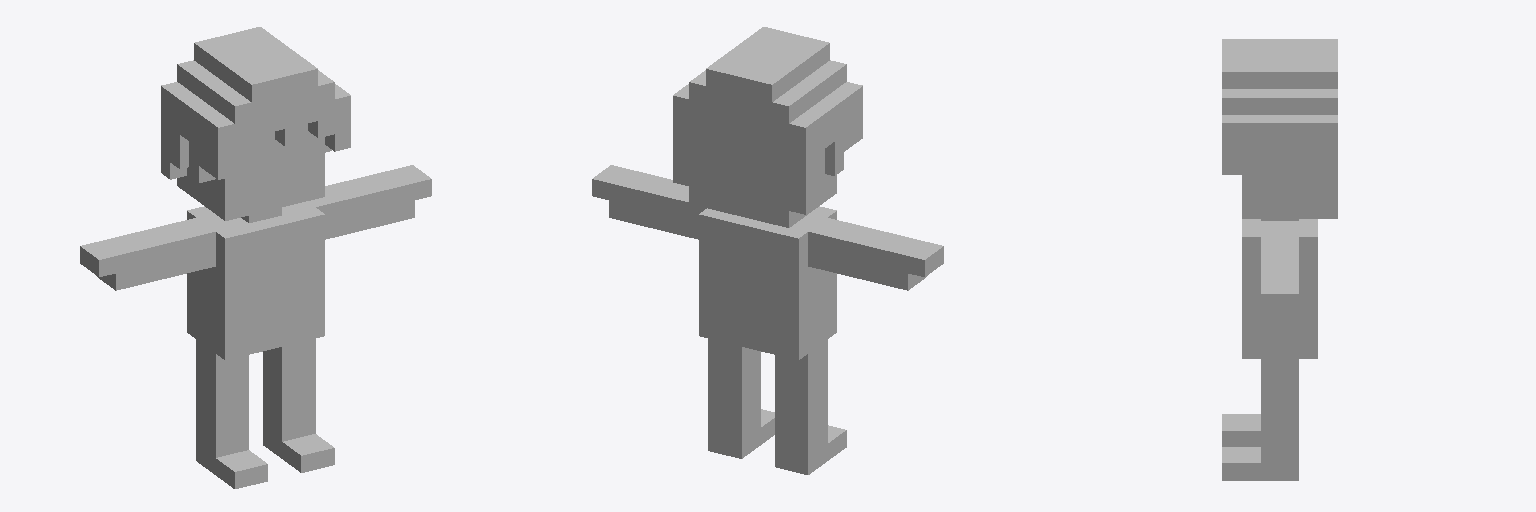
File: daichi.obj
The picture shows the model from 3 angles: view 1: azimuth 30°, elevation 25°; view 2: azimuth 150°, elevation 25°; view 3: azimuth 270°, elevation 25°; orthographic projection.
Parts seen in each view (by area): view 1: object 1; view 2: object 1; view 3: object 1.
Boxes of the visible parts, x1,y1,x2,y2 form: object 1: [80, 27, 431, 488]; object 1: [592, 27, 943, 474]; object 1: [1222, 39, 1337, 480].
Bounding box in the file's own units: 2 × 2.3 × 0.6.